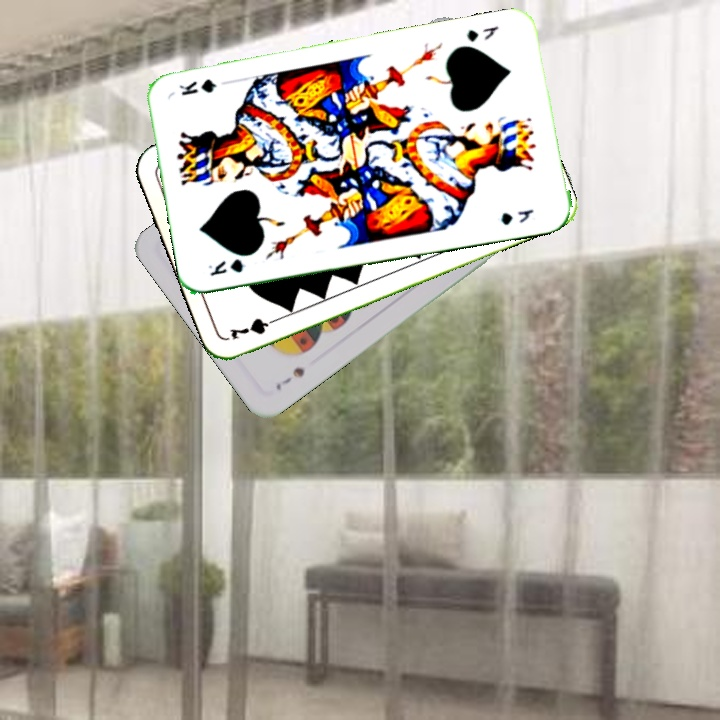G7: (225, 312, 284, 343)
GK: (204, 255, 249, 279), (462, 22, 501, 45)
S7: (271, 362, 308, 393)
